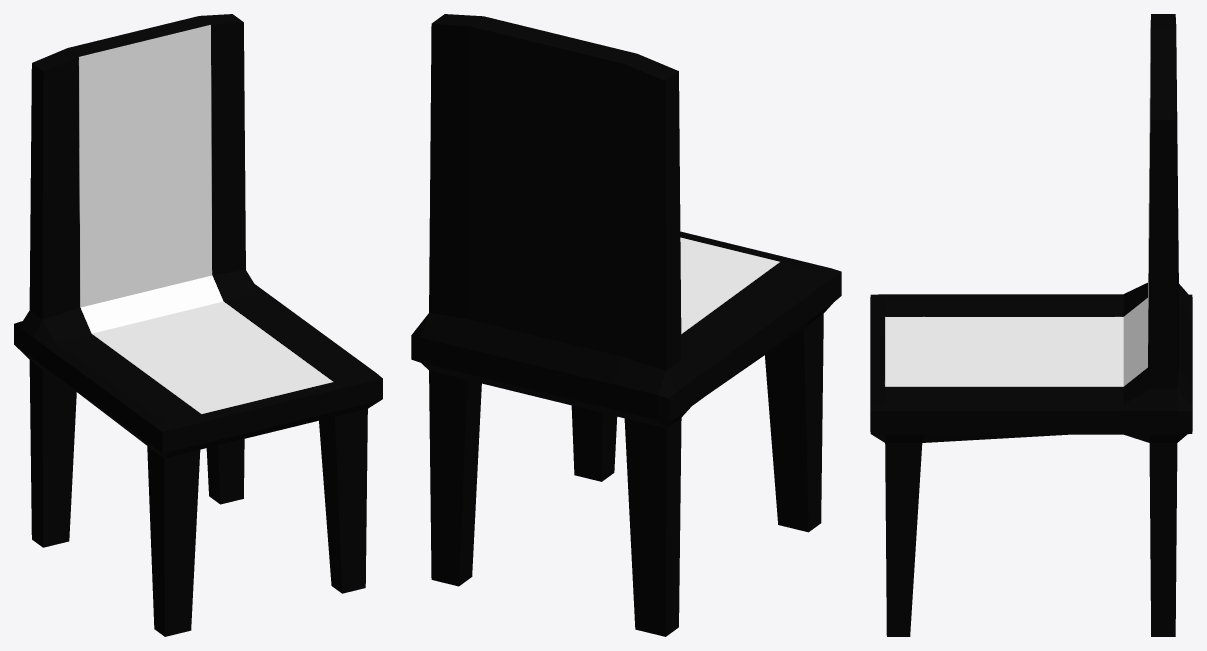
File: Silla.fbx
3 views of the same model, side by side, from view 1: azimuth 30°, elevation 25°; view 2: azimuth 150°, elevation 25°; view 3: azimuth 270°, elevation 25° (orthographic). The views are drawn at different scales.
Visible parts, largest first — view 1: SI, YA; view 2: SI, YA; view 3: SI, YA.
Part boxes in pixels (x1=…): SI, YA: x1=14, y1=14, x2=382, y2=636; SI, YA: x1=411, y1=14, x2=841, y2=636; SI, YA: x1=870, y1=14, x2=1192, y2=636.
Size of the model in its own units: 66.99 by 140 by 78.03.
